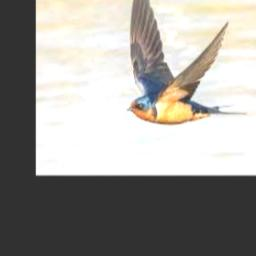Swallow: (126, 0, 247, 124)
